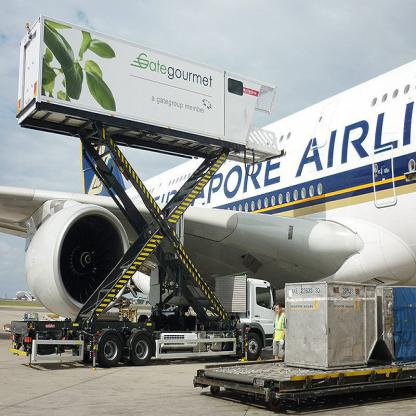Catering truck: (15, 6, 280, 368)
